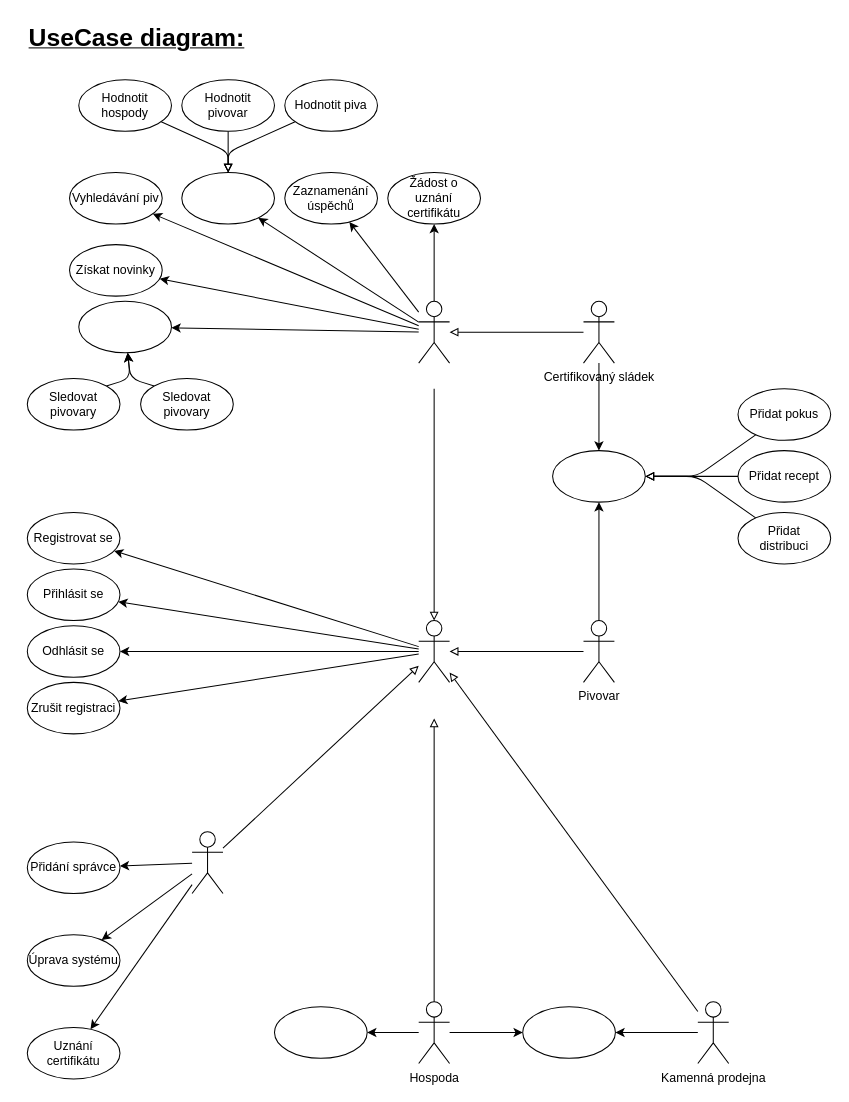
The diagram is 849 pixels wide and 1102 high, and some of its shapes have lost their labels. The centre of each missing label's shape, as x and y in pixels:
Běžný uživatel: the point at 434,331
Hodnotit: the point at 227,197
Nástěvník systému: the point at 434,651
Odebírat: the point at 124,326
Přidat: the point at 598,476
Správce: the point at 207,862
Upravit nabídku: the point at 568,1032
Uzavřít smlouvu s pivovary: the point at 320,1032
